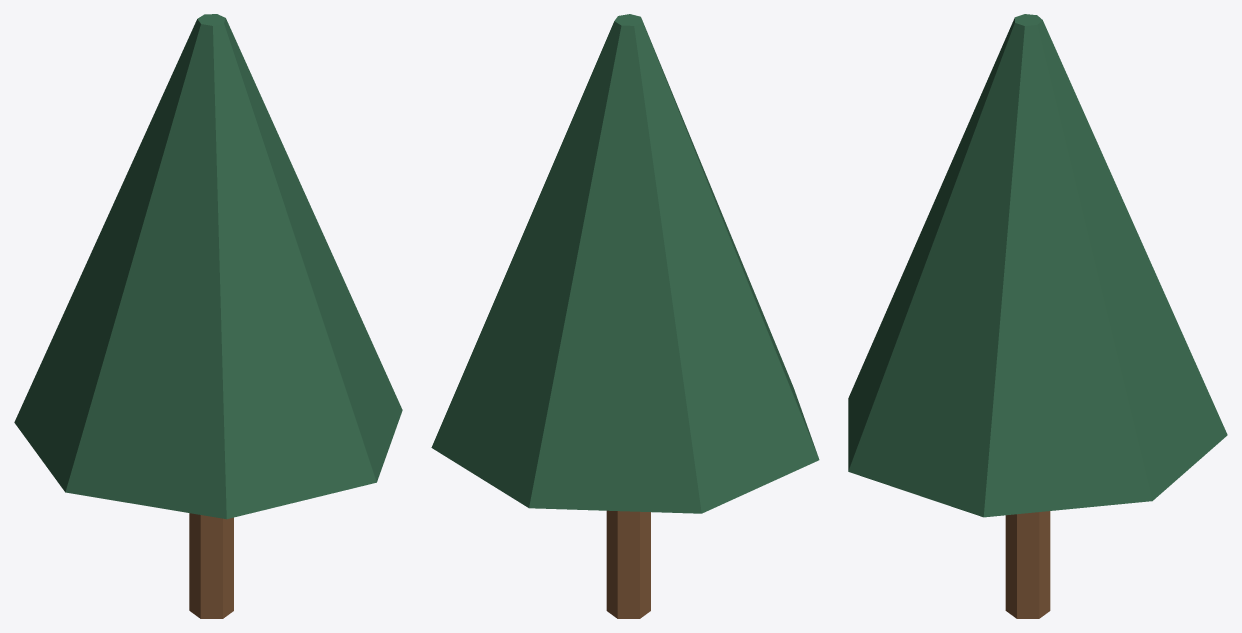
Rendered from norway-spruce_lod1.glb.
3 renders of one model, left to right at view 1: azimuth 30°, elevation 25°; view 2: azimuth 150°, elevation 25°; view 3: azimuth 270°, elevation 25°, orthographic.
Parts seen in each view (by area): view 1: RF_Tree_Crown_Low, RF_Tree_Trunk; view 2: RF_Tree_Crown_Low, RF_Tree_Trunk; view 3: RF_Tree_Crown_Low, RF_Tree_Trunk.
Part boxes in pixels (<box>): RF_Tree_Crown_Low: <box>14,14,402,519</box>; RF_Tree_Trunk: <box>189,513,233,618</box>; RF_Tree_Crown_Low: <box>431,14,819,513</box>; RF_Tree_Trunk: <box>606,510,650,618</box>; RF_Tree_Crown_Low: <box>848,14,1227,517</box>; RF_Tree_Trunk: <box>1005,511,1050,618</box>.
Size of the model in its own units: 6.63 by 11.1 by 6.46.
